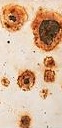Corrosion: (29, 8, 62, 53), (1, 3, 29, 34), (16, 70, 36, 92), (42, 55, 56, 69), (42, 69, 56, 83), (19, 114, 32, 128), (38, 87, 48, 100), (1, 77, 11, 88)
